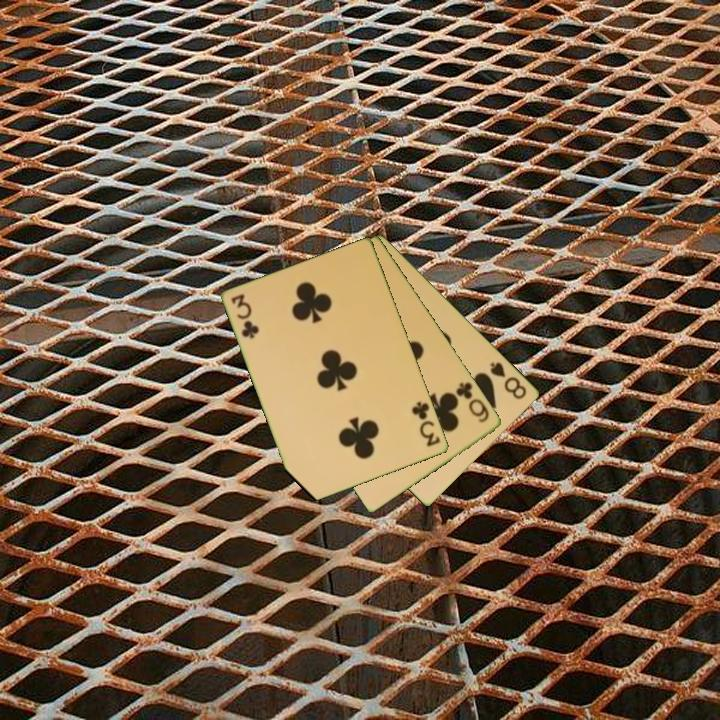3c: (408, 398, 443, 450), (228, 291, 261, 342)
6c: (452, 378, 493, 426)
8s: (487, 359, 530, 402)
